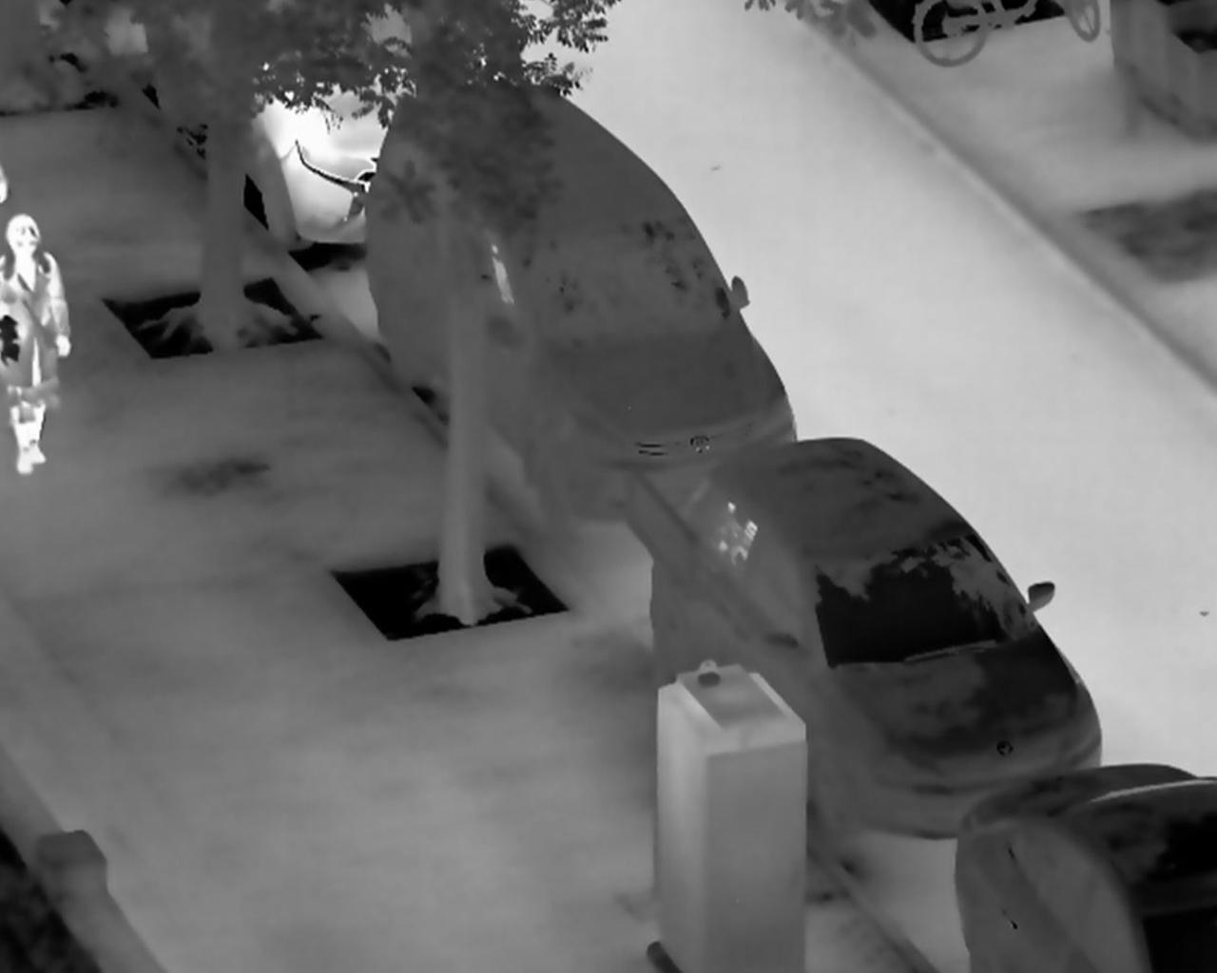person: (2, 213, 72, 474)
